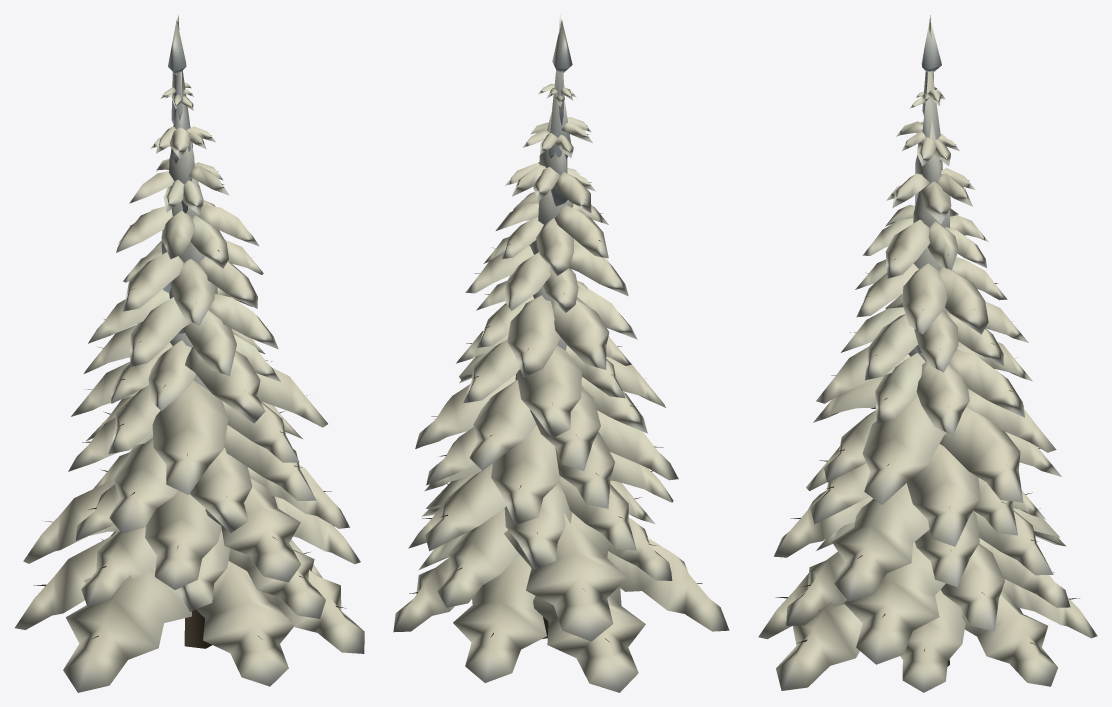
The picture shows the model from 3 angles, left to right: view 1: azimuth 30°, elevation 25°; view 2: azimuth 150°, elevation 25°; view 3: azimuth 270°, elevation 25°; orthographic projection. The views are drawn at different scales.
Parts seen in each view (by area): view 1: crown, trunk; view 2: crown; view 3: crown.
Part boxes in pixels (x1,y1,x2,y2): crown: [15, 15, 364, 692]; trunk: [33, 93, 345, 648]; crown: [393, 14, 729, 692]; crown: [758, 15, 1097, 692].
Bounding box in the file's own units: 6.98 × 14.47 × 6.94.
